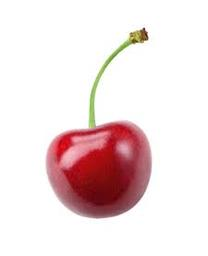cherry: (44, 120, 152, 219)
